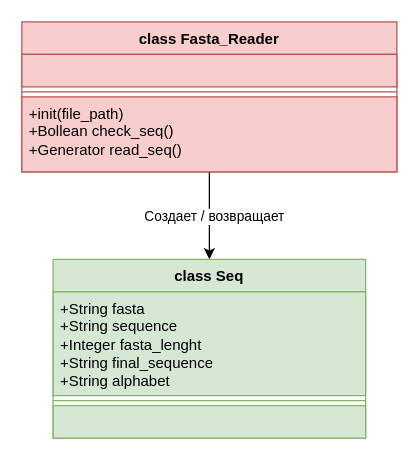
The diagram is 419 pixels wide and 464 high, and some of its shapes have lost their labels. Each missing label, with the centre of its shape:
+init(fasta_str, sequence): pixel 209 421
+String file_path: pixel 209 70
